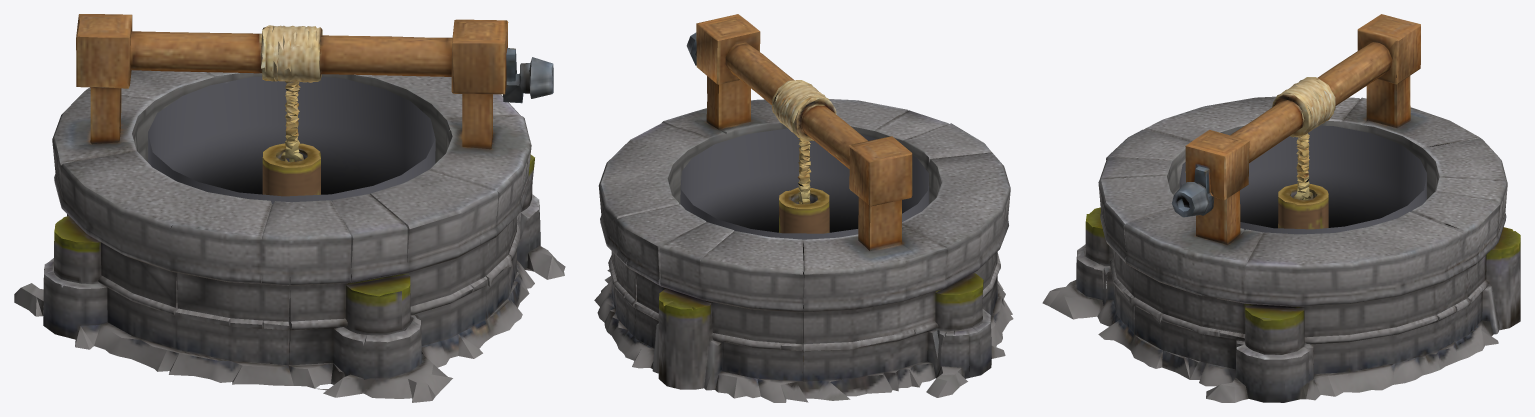
Rendered from well.glb.
3 renders of one model, left to right at view 1: azimuth 30°, elevation 25°; view 2: azimuth 150°, elevation 25°; view 3: azimuth 270°, elevation 25°, orthographic. The views are drawn at different scales.
Visible parts, largest first — view 1: architecture; view 2: architecture; view 3: architecture.
Part boxes in pixels (bbox=[...]): architecture: bbox=[14, 14, 565, 402]; architecture: bbox=[594, 14, 1013, 402]; architecture: bbox=[1042, 14, 1520, 402].
Bounding box in the file's own units: 0.9734 × 0.5382 × 1.04.
1 material, 1 textured.
